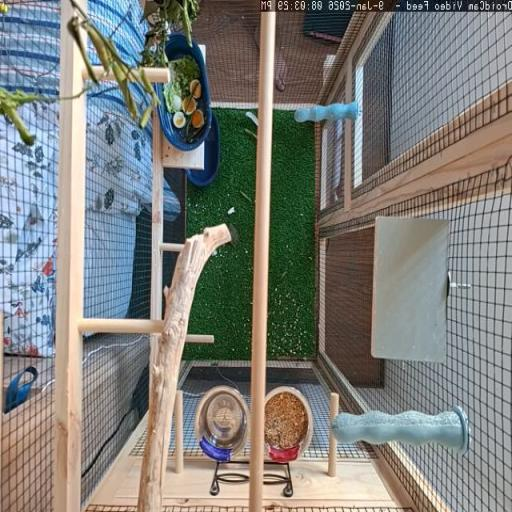bebedero: (196, 387, 249, 461)
comedero: (265, 386, 313, 463)
